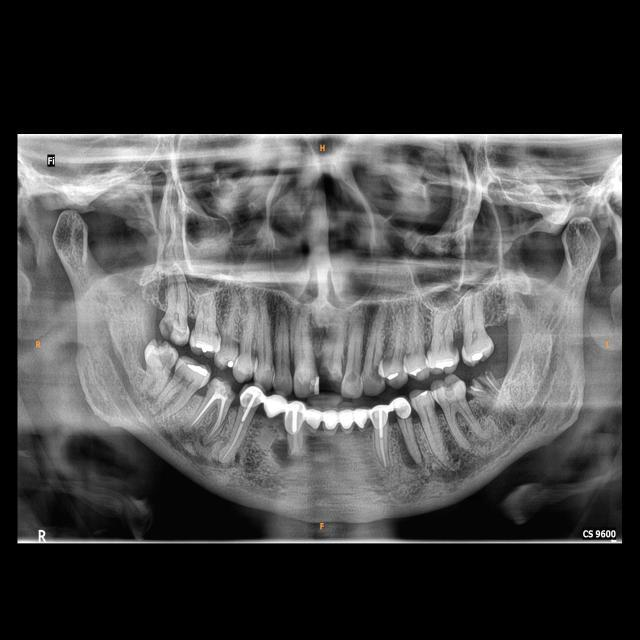dentin-curugu: (161, 319, 174, 340)
dolgu: (181, 359, 210, 386)
kanal-tedavisi: (194, 390, 228, 436), (224, 408, 254, 460), (375, 425, 397, 468)
kaplama: (283, 401, 305, 439), (243, 381, 265, 418), (388, 397, 416, 426), (370, 406, 390, 436)
kirik: (317, 348, 348, 396), (470, 369, 505, 408)
kok-enfeksiyonu: (395, 437, 430, 474), (267, 437, 295, 463)
kopru: (301, 402, 375, 438), (252, 390, 294, 425)
